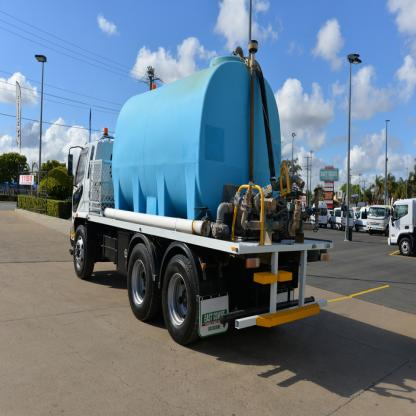truck: (68, 41, 334, 343)
